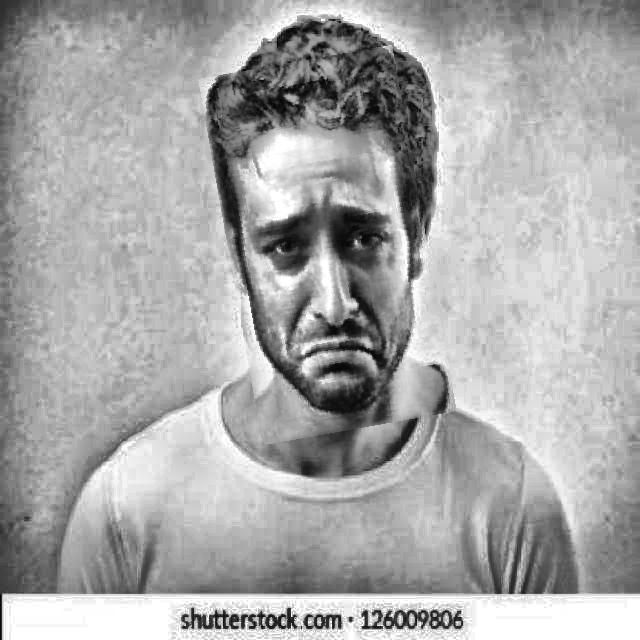sad: (214, 52, 441, 438)
